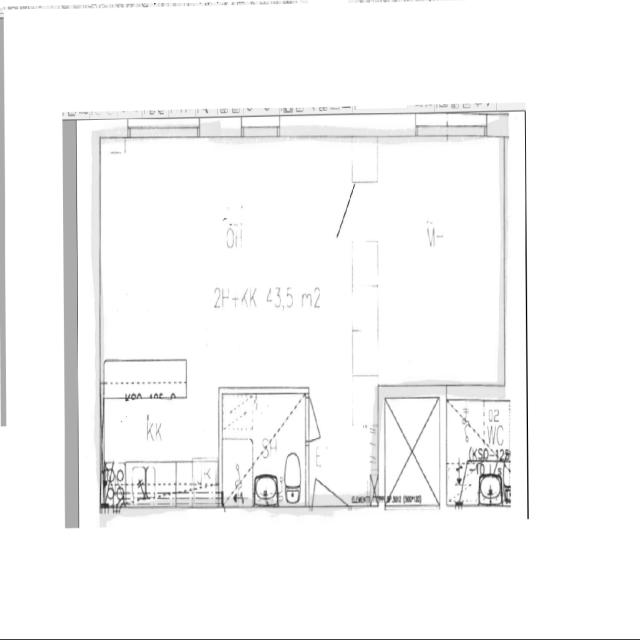door: (310, 474, 349, 517), (303, 395, 324, 451)
zone: (96, 133, 354, 363), (349, 133, 506, 395), (219, 388, 311, 507), (381, 388, 444, 508), (442, 390, 507, 505)
